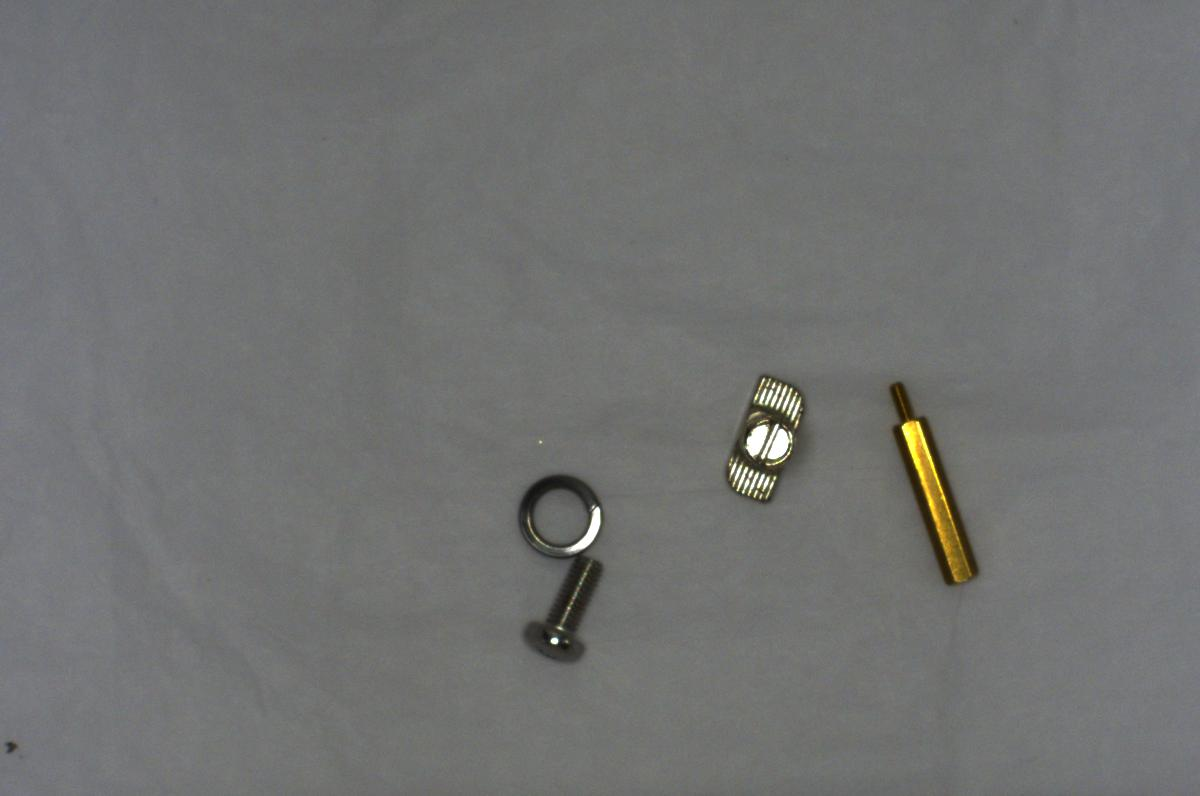Hexagon pillar: (888, 369, 990, 601)
Round head screw: (510, 554, 612, 666)
Spring washer: (499, 466, 615, 561)
T-shaped screw: (687, 359, 812, 516)
